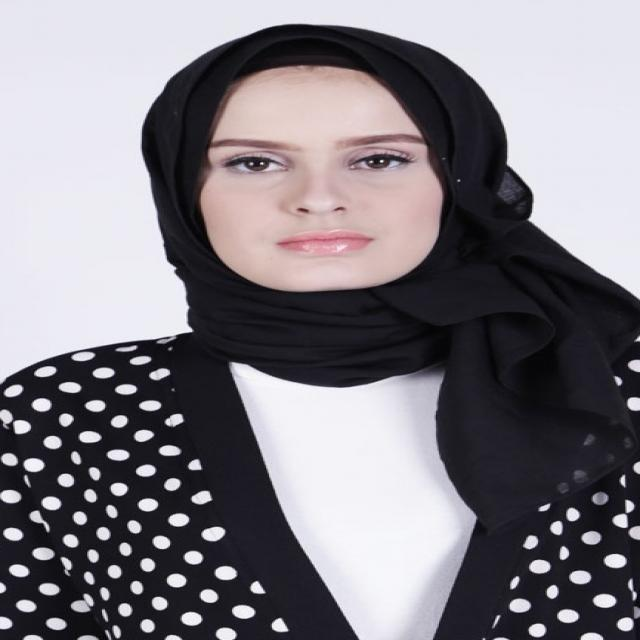head: (127, 29, 524, 316)
